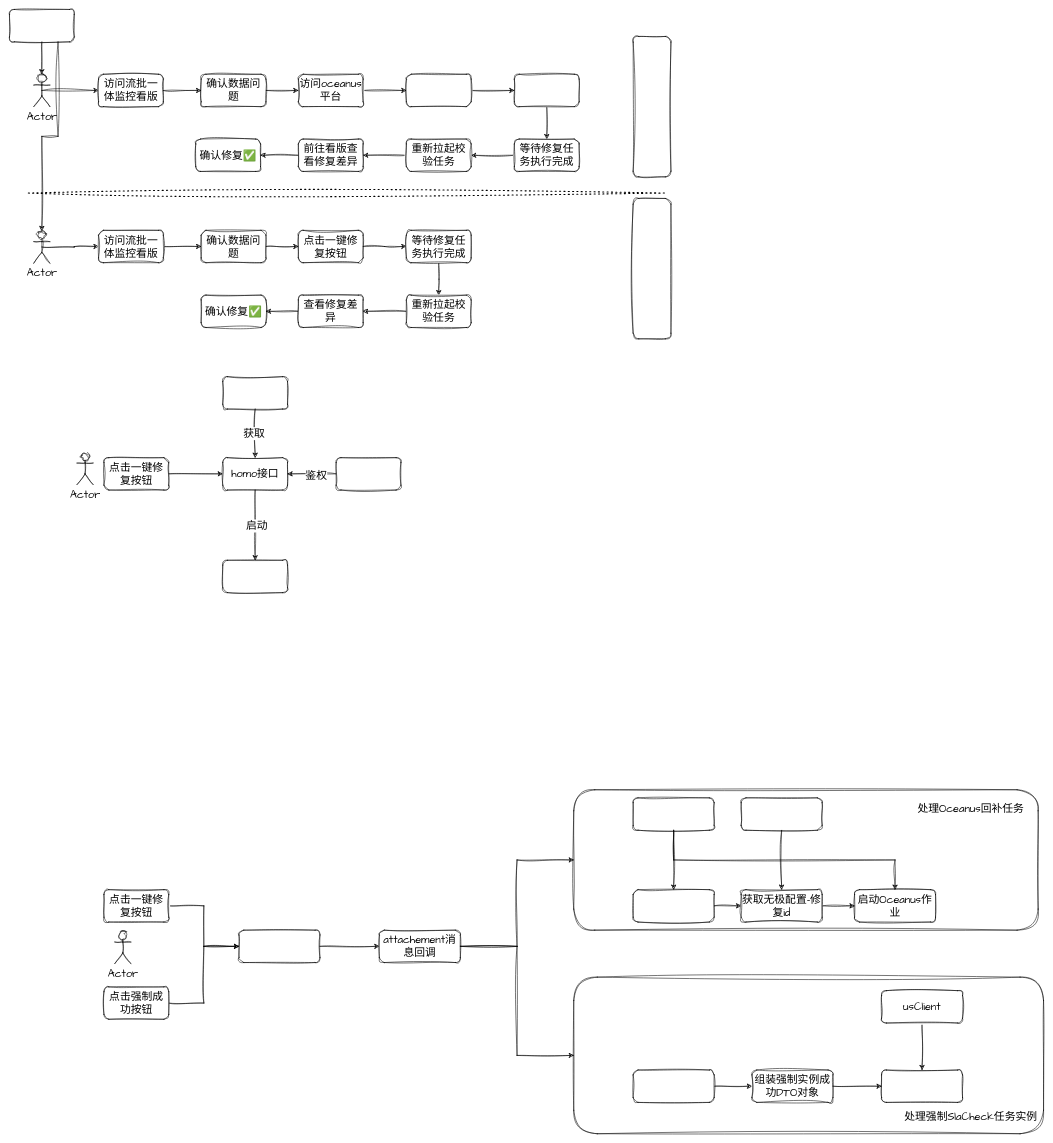
Image size: 1053x1143. Some labels were removed from this diagram. Here are the shapes that lost their labels. From the top down, the centre of each, then its label:
At (41,25): "收到告警".
At (438,90): "修改配置参数".
At (546,90): "启动修复任务".
At (652,106): "旧方案".
At (652,268): "新方案".
At (255,392): "无极配置".
At (368,473): "oceanus 任务责任人".
At (255,576): "oceanus修复任务".
At (673,813): "OceanusServer".
At (781,813): "WujiServer".
At (673,905): "用户鉴权".
At (279,946): "SLA校验机器人消息校验".
At (673,1085): "解析Us任务id、实例分区".
At (922,1085): "调用UsClient强制实例成功方法".
